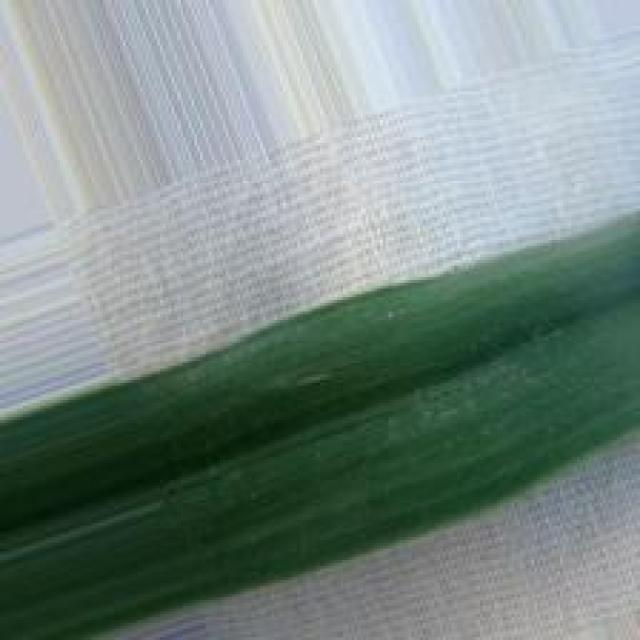Healthy: (0, 214, 640, 640)
